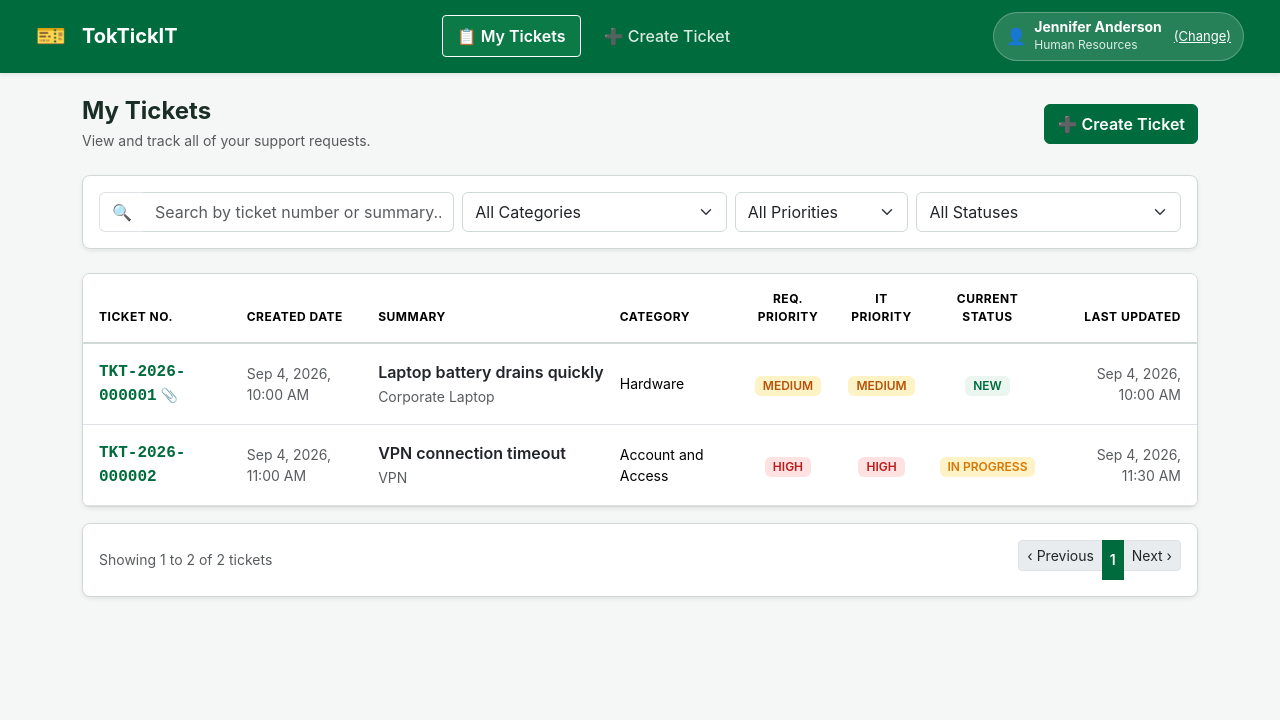
Test: My Tickets Screen (List Mode) › UI-03: switching requester updates ticket list specifically for the new user
This screenshot has width=1280, height=720.
Expected: the text "Laptop battery drains quickly" is shown, left=378, top=360, right=604, bottom=384
Note: Click Change Requester button in Navbar
Click the button with test id "change-requester-btn" at (1202,36), box left=1174, top=27, right=1231, bottom=46
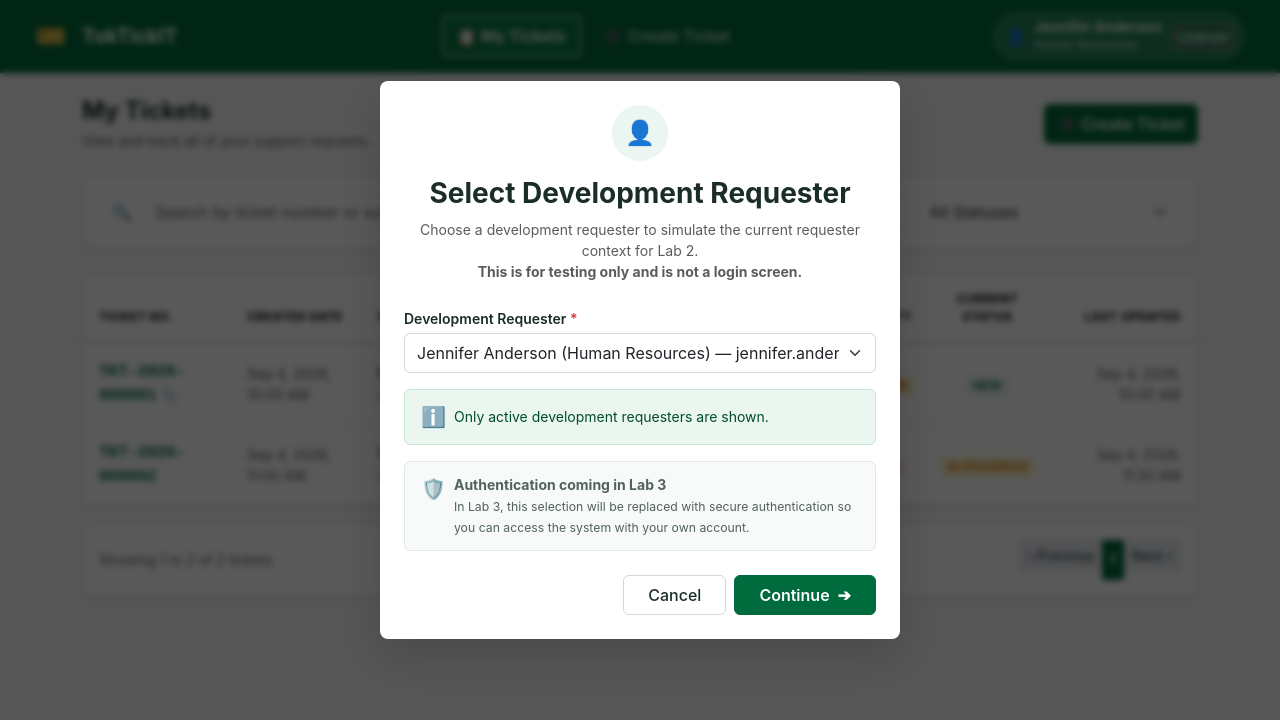
Expected: the dropdown with test id "requester-dropdown" is shown
Select "Michael Brown (Engineering) — michael.brown@toktickit.local" in the dropdown with test id "requester-dropdown" at (640,353), box left=404, top=333, right=876, bottom=373
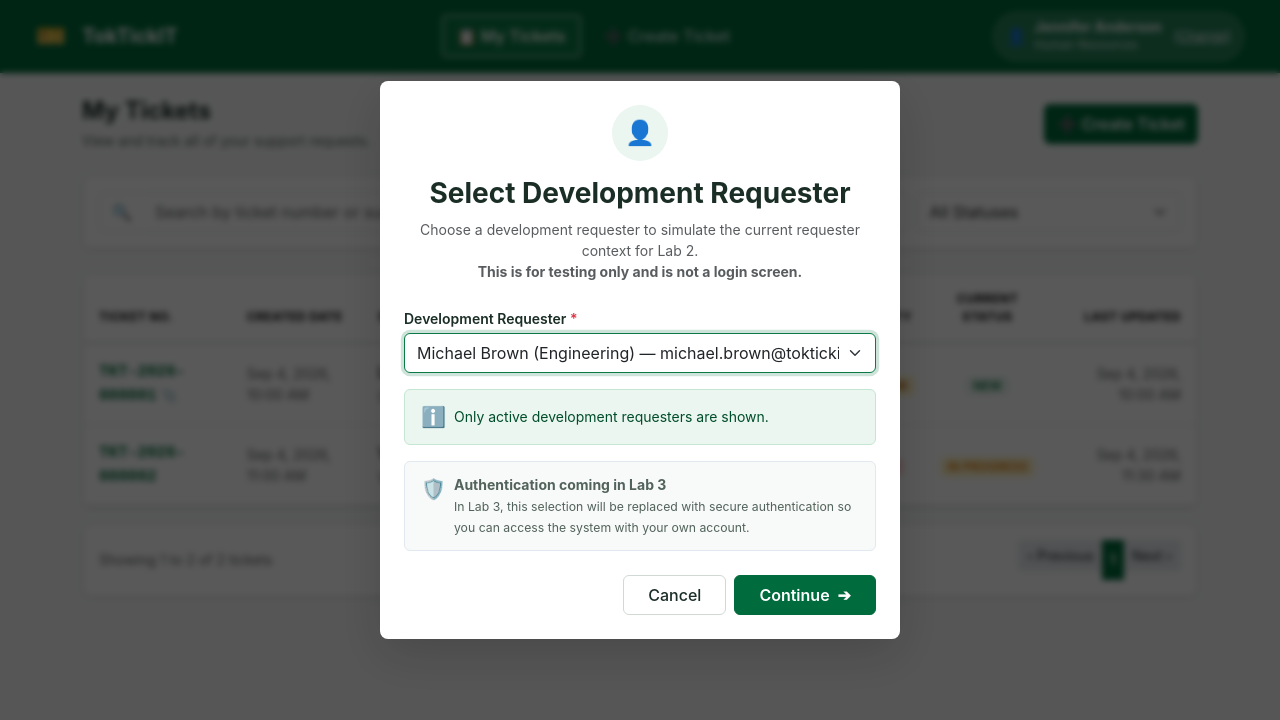
Click the button with test id "selector-continue-btn" at (805,595), box left=734, top=575, right=876, bottom=615
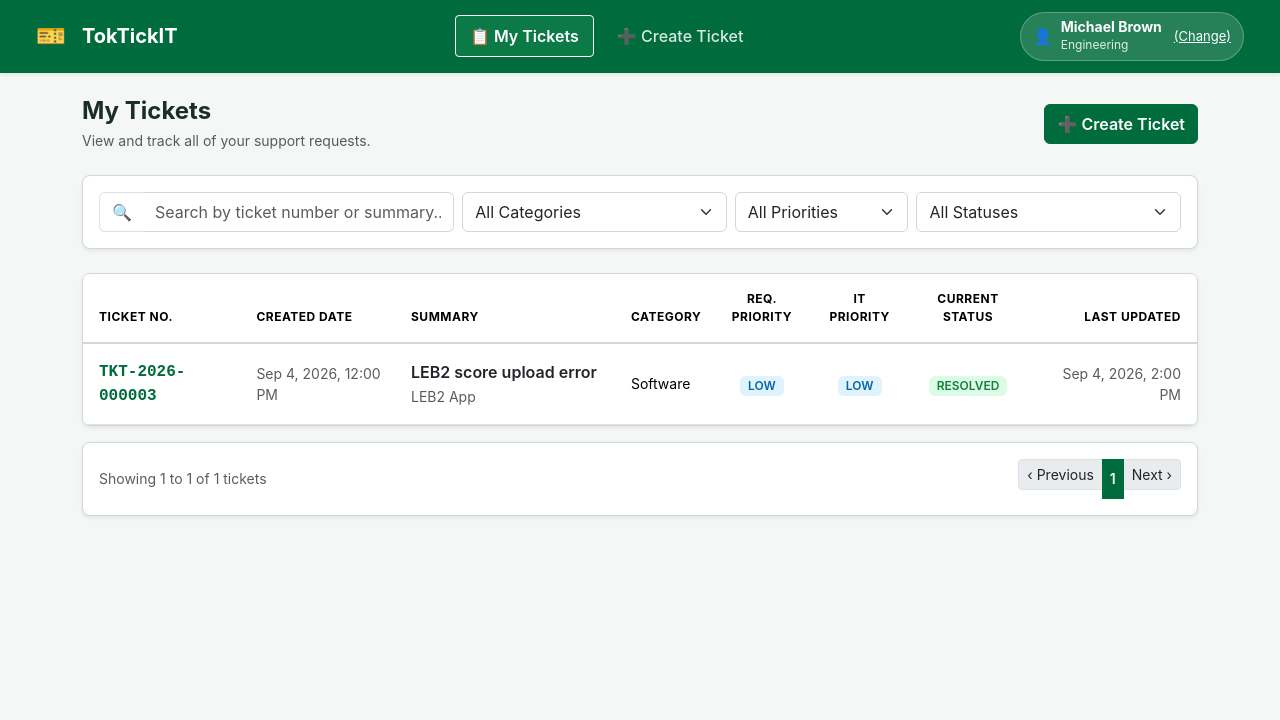
Expected: the text "Laptop battery drains quickly" is gone
Expected: the text "LEB2 score upload error" is shown, left=411, top=360, right=615, bottom=384
Expected: the text "TKT-2026-000003" is shown, left=83, top=343, right=248, bottom=424
